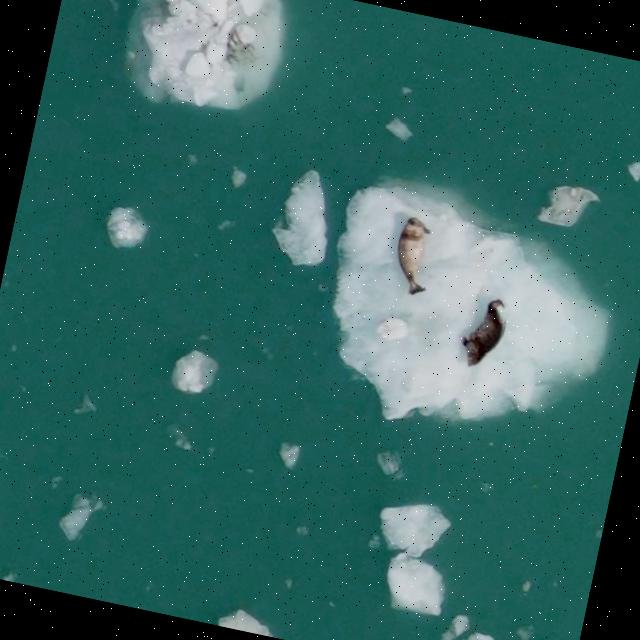seal: (460, 298, 504, 367), (396, 217, 431, 296)
